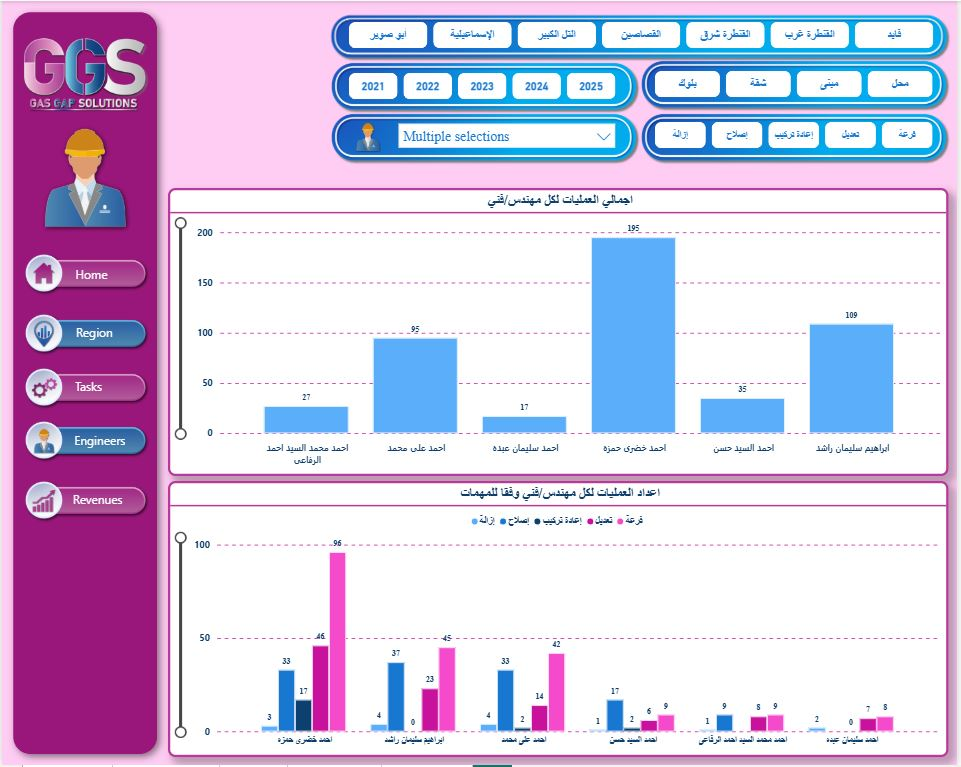

What the dashboard file says about the page in this screenshot:
{"tool":"powerbi","page":{"name":"Engineers","canvas":[1280,1024],"ordinal":3},"visuals":[{"type":"image","box":[428.6,0,851.4,95.7],"z":2000},{"type":"image","box":[428.6,99.1,435.7,168.6],"z":3000},{"type":"image","box":[844.3,99.1,435.7,168.6],"z":4000},{"type":"image","box":[844.3,28.7,435.7,168.6],"z":5000},{"type":"image","box":[428.6,30.2,435.7,168.6],"z":6000},{"type":"advancedSlicerVisual","title":"المنطقة - الادارة","fields":{"Values":["Region1.Region_Name"]},"box":[465,28.3,783.3,35],"z":7000},{"type":"advancedSlicerVisual","title":"السنة","fields":{"Values":["Customers.Order_Date.Variation.Date Hierarchy.Year"]},"box":[465,96.2,361.2,35],"z":8000},{"type":"advancedSlicerVisual","title":"نوع المبني","fields":{"Values":["Building.Building_Type"]},"box":[875,93.8,373.8,35],"z":9000},{"type":"advancedSlicerVisual","title":"المهمة المطلوبة","fields":{"Values":["To_Do.To_Do"]},"box":[875,162.5,373.8,35],"z":10000},{"type":"shape","box":[0,0,222.9,1024.3],"z":11000},{"type":"image","box":[15.7,35.7,190,125.7],"z":12000},{"type":"image","box":[15.7,308.4,192,112],"z":13000},{"type":"image","box":[15.7,396.4,192,96],"z":14000},{"type":"image","box":[15.7,468.4,192,96],"z":15000},{"type":"image","box":[15.7,540.4,192,96],"z":16000},{"type":"image","box":[15.7,612.4,192,112],"z":17000},{"type":"actionButton","box":[63.1,334.6,114.3,60],"z":18000},{"type":"actionButton","box":[60,420,127.1,48.6],"z":19000},{"type":"actionButton","box":[60,484.3,111.4,64.3],"z":20000},{"type":"actionButton","box":[58.6,555.7,144.3,64.3],"z":21000},{"type":"actionButton","box":[64.3,643.2,128,48],"z":22000},{"type":"clusteredColumnChart","title":"اجمالي العمليات لكل مهندس/فني","fields":{"Y":["Sum(Cost_Profit.Mission_Done)"],"Category":["Eng2.Eng_Name"]},"box":[222.9,250,1045.7,385.7],"z":27000},{"type":"clusteredColumnChart","title":"اعداد العمليات لكل مهندس/فني وفقا للمهمات","fields":{"Category":["Eng2.Eng_Name"],"Series":["To_Do.To_Do"],"Y":["Sum(Cost_Profit.Mission_Done)"]},"box":[222.9,642.9,1045.7,370],"z":28000},{"type":"slicer","title":"المهندس / الفني","fields":{"Values":["Eng2.Eng_Name"]},"box":[527.1,160,300,57.1],"z":29000},{"type":"image","box":[36.7,160,150,155],"z":30000},{"type":"image","box":[465.7,157.1,50,51.4],"z":31000}]}

Visuals, with their boxes on the page's 1280x1024 design canvas (x1, y1, x2, y2). These are canvas units, not pixel positions in the 961x767 screenshot, which may show the page scaled, cropped or inside an application window:
image: (429, 0, 1280, 96)
image: (429, 99, 864, 268)
image: (844, 99, 1280, 268)
image: (844, 29, 1280, 197)
image: (429, 30, 864, 199)
"المنطقة - الادارة" advancedSlicerVisual: (465, 28, 1248, 63)
"السنة" advancedSlicerVisual: (465, 96, 826, 131)
"نوع المبني" advancedSlicerVisual: (875, 94, 1249, 129)
"المهمة المطلوبة" advancedSlicerVisual: (875, 162, 1249, 198)
shape: (0, 0, 223, 1024)
image: (16, 36, 206, 161)
image: (16, 308, 208, 420)
image: (16, 396, 208, 492)
image: (16, 468, 208, 564)
image: (16, 540, 208, 636)
image: (16, 612, 208, 724)
actionButton: (63, 335, 177, 395)
actionButton: (60, 420, 187, 469)
actionButton: (60, 484, 171, 549)
actionButton: (59, 556, 203, 620)
actionButton: (64, 643, 192, 691)
"اجمالي العمليات لكل مهندس/فني" clusteredColumnChart: (223, 250, 1269, 636)
"اعداد العمليات لكل مهندس/فني وفقا للمهمات" clusteredColumnChart: (223, 643, 1269, 1013)
"المهندس / الفني" slicer: (527, 160, 827, 217)
image: (37, 160, 187, 315)
image: (466, 157, 516, 208)
